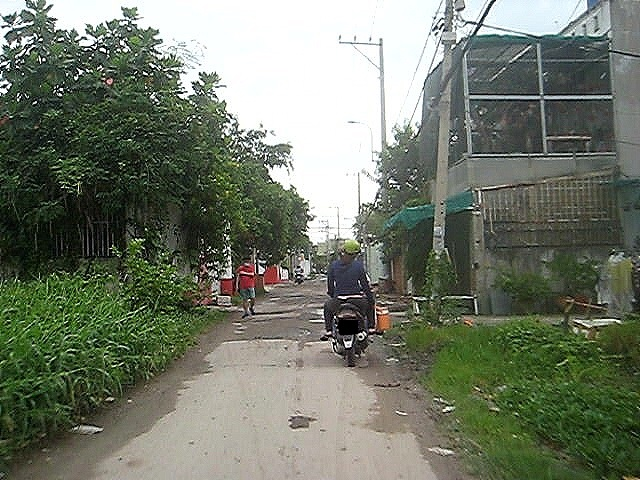hole: (253, 307, 300, 315), (250, 334, 289, 342), (306, 307, 325, 323), (295, 327, 312, 336)
